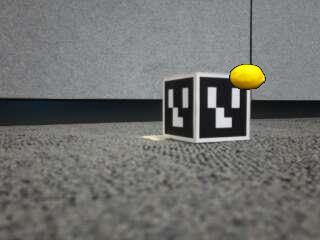lemon: (231, 65, 265, 90)
